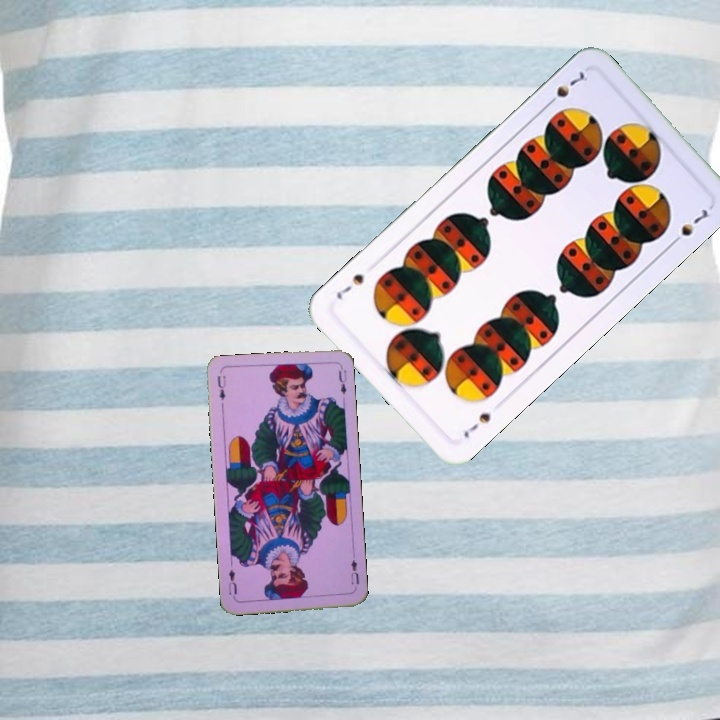EU: (213, 371, 229, 402), (347, 555, 362, 587)
S7: (541, 67, 591, 110), (459, 408, 493, 441)
